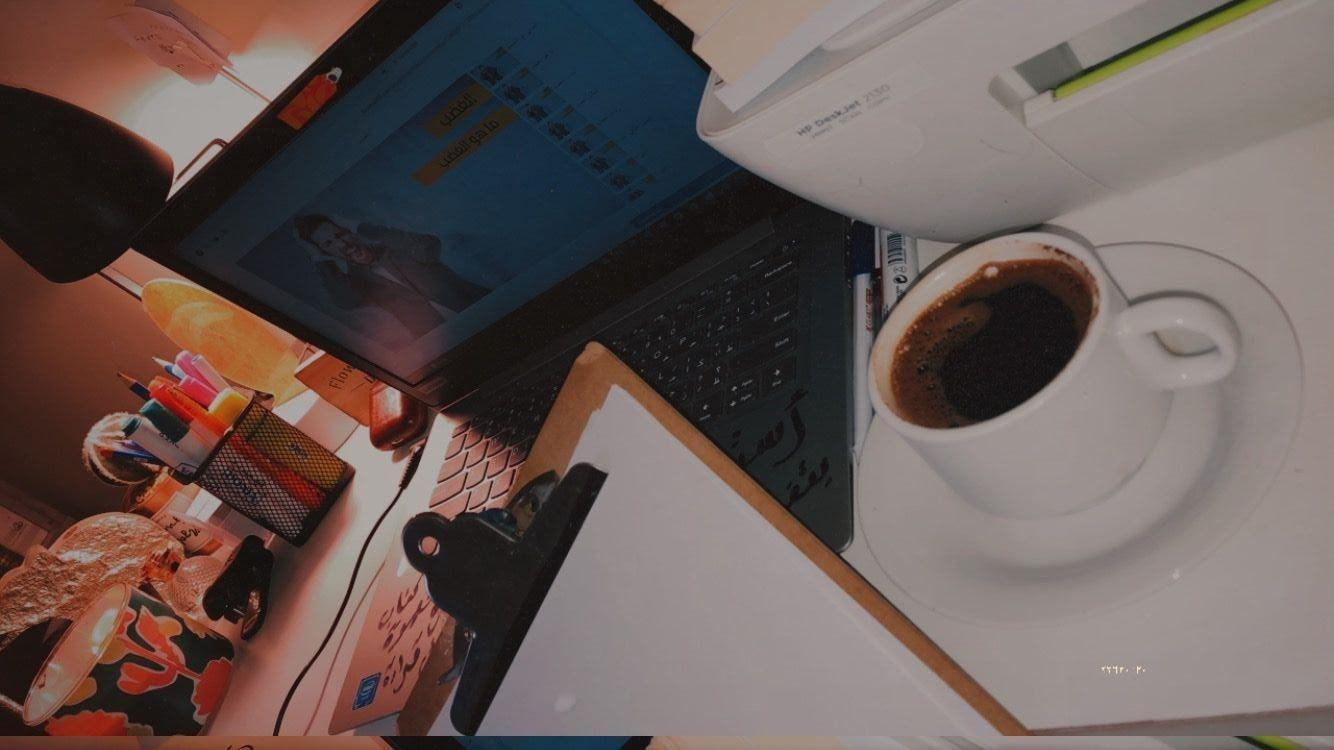cup-handle: (864, 228, 1245, 519)
